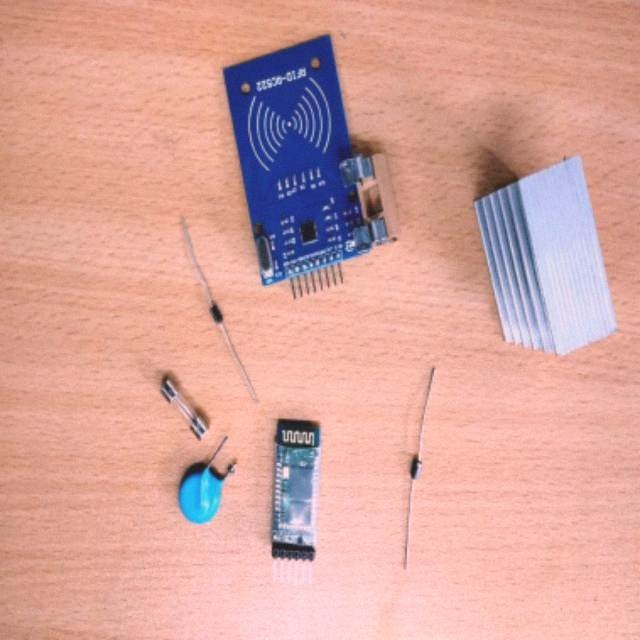capacitor: (179, 462, 224, 524)
